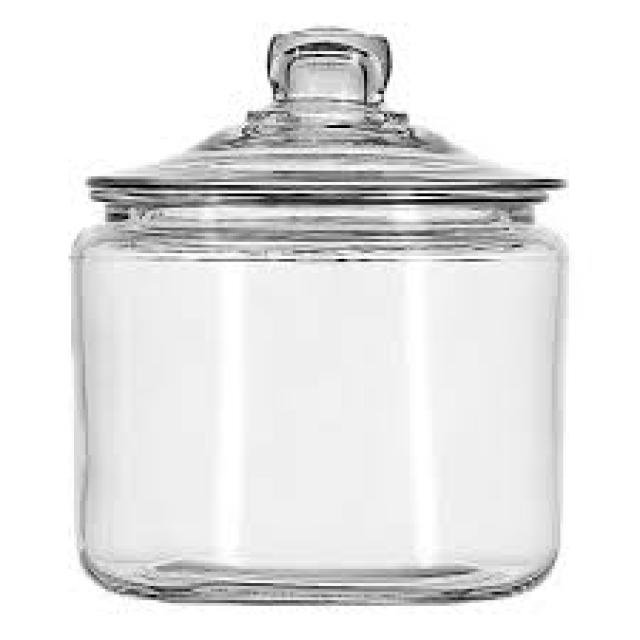Dry Waste: (70, 21, 566, 608)
